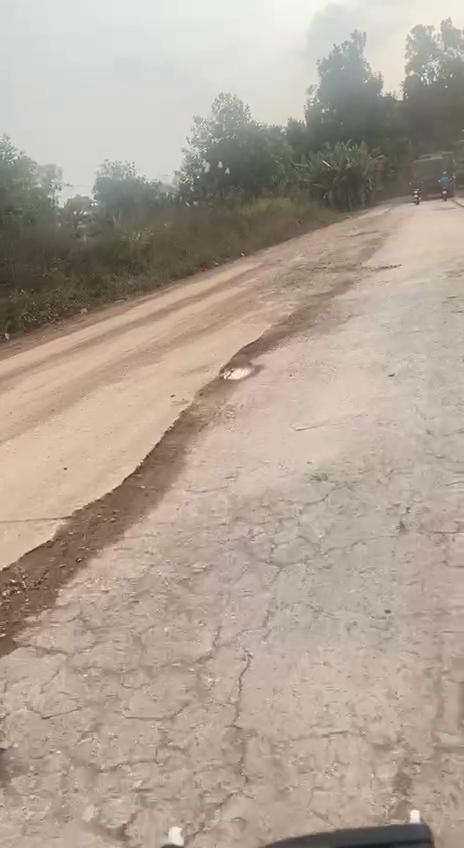pothole: (0, 500, 129, 651)
